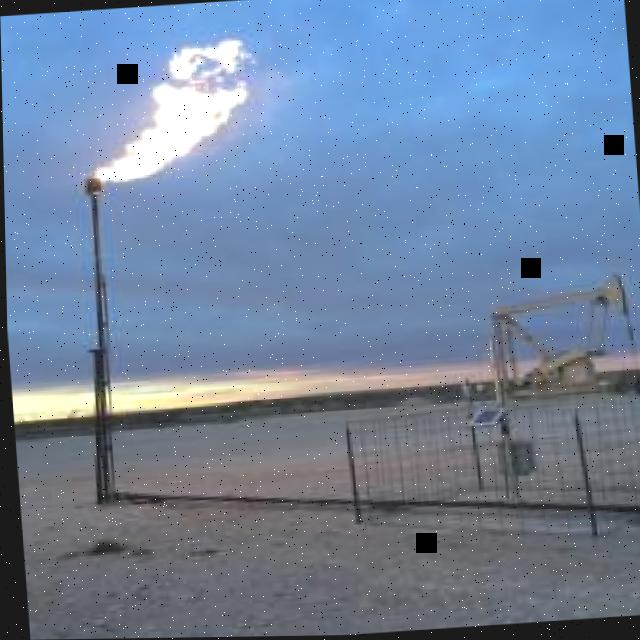fire: (95, 40, 252, 183)
